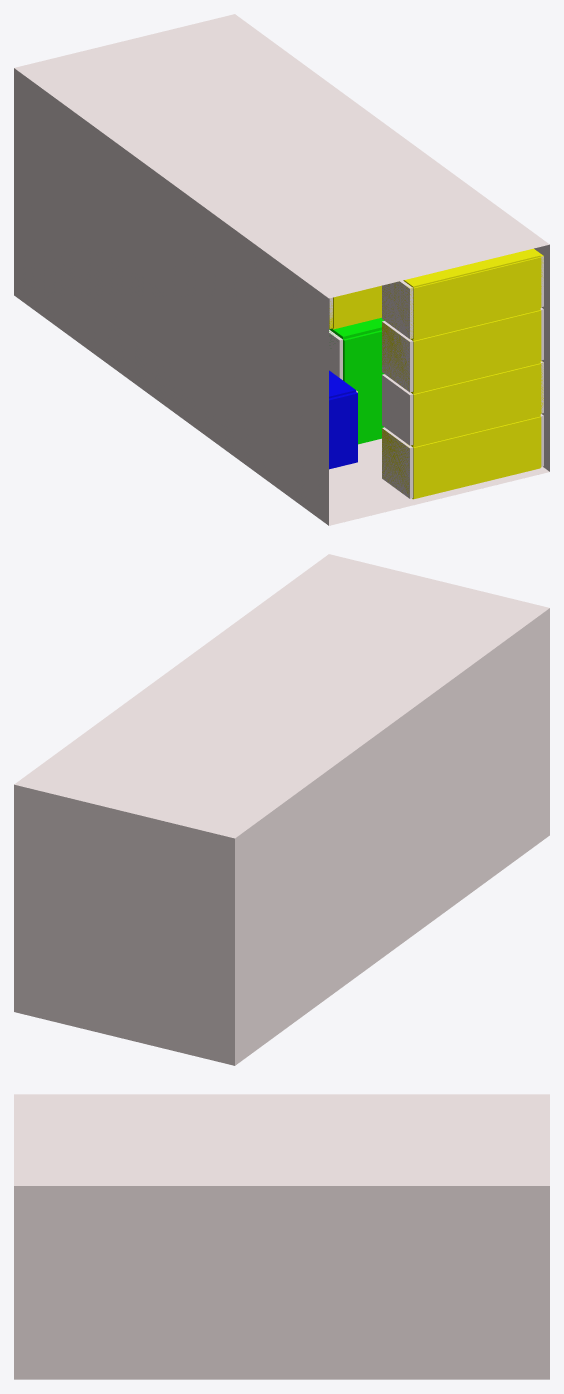
The model's file is Boxes_30.fbx.
3 renders of one model, top to bottom at view 1: azimuth 30°, elevation 25°; view 2: azimuth 150°, elevation 25°; view 3: azimuth 270°, elevation 25°, orthographic. The views are drawn at different scales.
Visible parts, largest first — view 1: bintop, BinIso20Bottom, binleft, front_13, front_14, front_15, front_16, binbottom, front_2, front_4, front_10, top_16 (+3 smaller); view 2: BinIso20Bottom, bintop, binback; view 3: BinIso20Bottom, binright, bintop.
Part boxes in pixels (x1,y1,x2,y2): bintop: [14, 14, 549, 298]; BinIso20Bottom: [14, 74, 549, 525]; binleft: [14, 68, 324, 515]; front_13: [413, 416, 541, 498]; front_14: [413, 363, 541, 445]; front_15: [413, 310, 541, 391]; front_16: [413, 257, 541, 338]; binbottom: [329, 438, 549, 525]; front_2: [343, 330, 383, 442]; front_4: [329, 392, 357, 469]; front_10: [333, 285, 381, 328]; top_16: [403, 249, 540, 287]; BinIso20Bottom: [235, 608, 549, 1065]; bintop: [14, 554, 549, 838]; binback: [14, 784, 234, 1065]; BinIso20Bottom: [14, 1186, 549, 1379]; binright: [14, 1192, 549, 1379]; bintop: [14, 1094, 549, 1185].
Bounding box in the file's own units: 2390 × 2350 × 5900.
